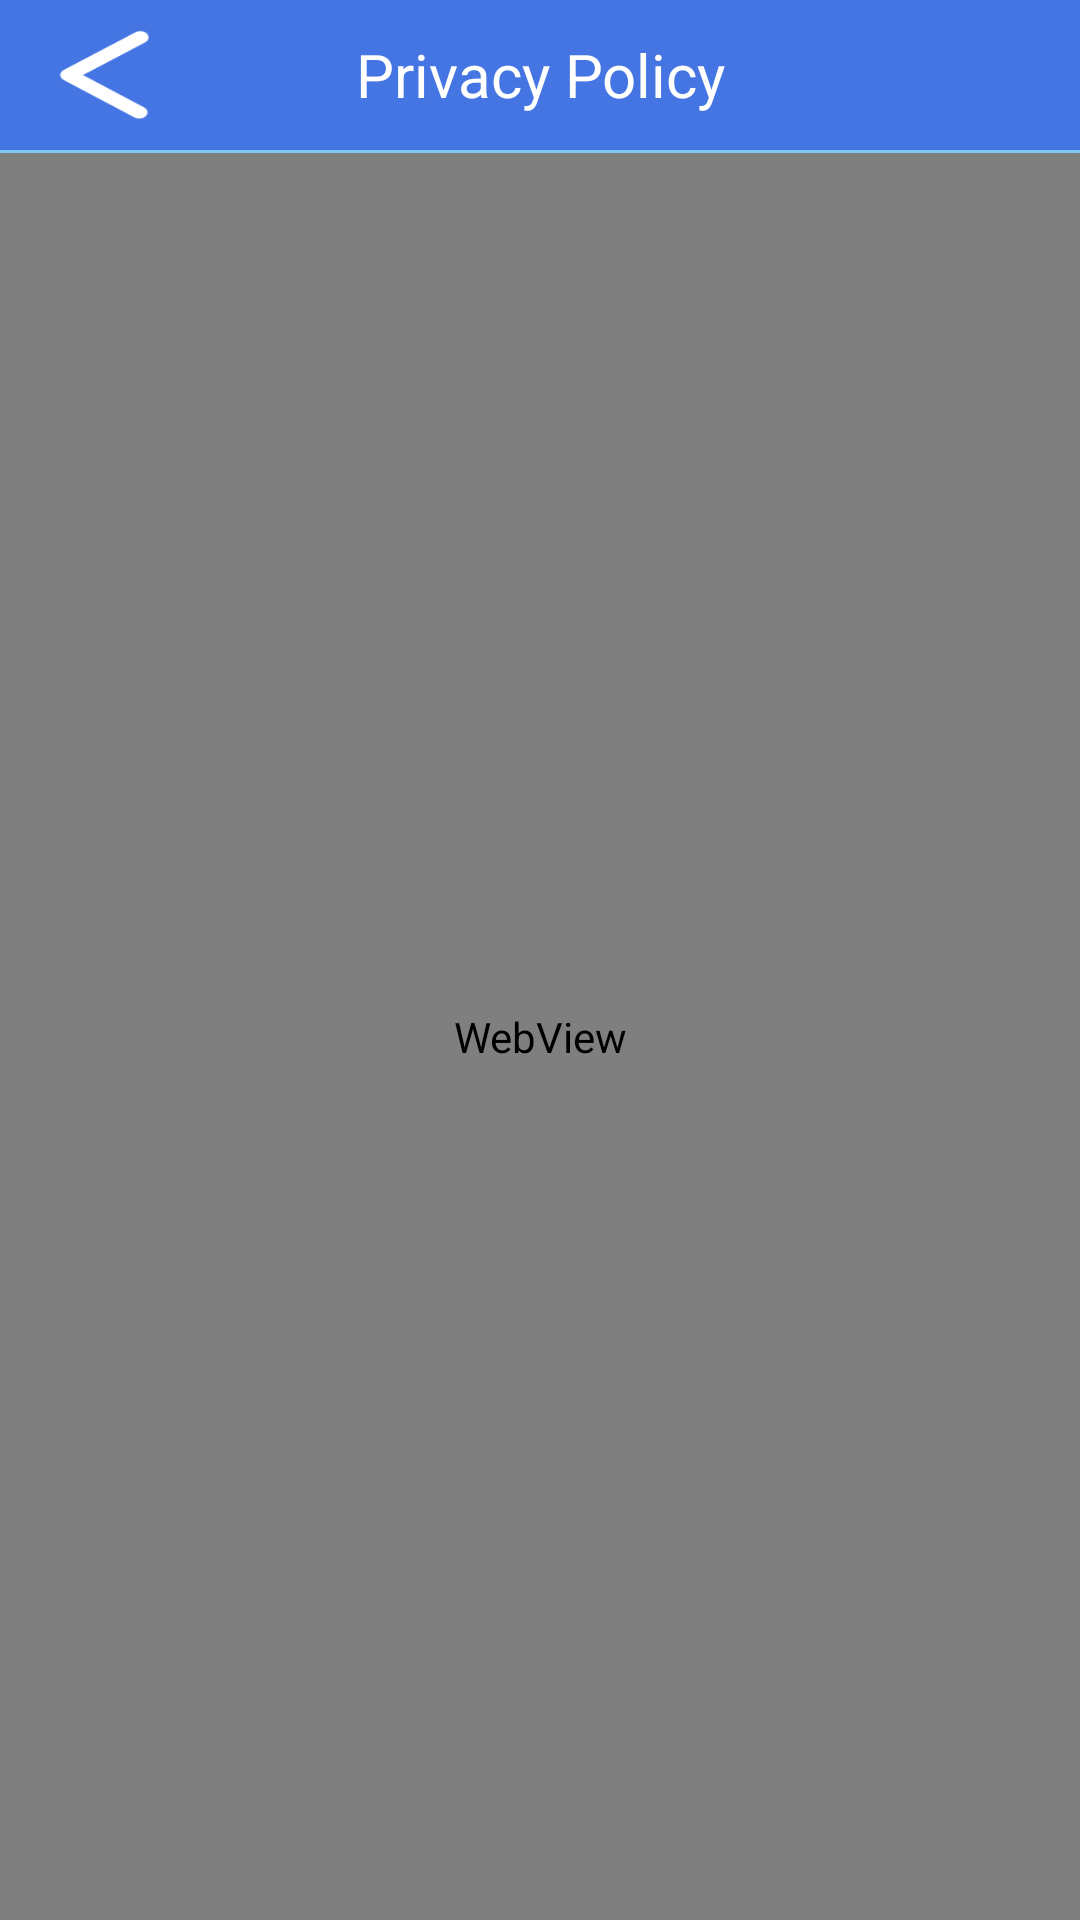

Icon bounding boxes for this 1080*1920 phone screenshot, format (x1, y1, x2, y2):
back: (60, 31, 149, 119)
